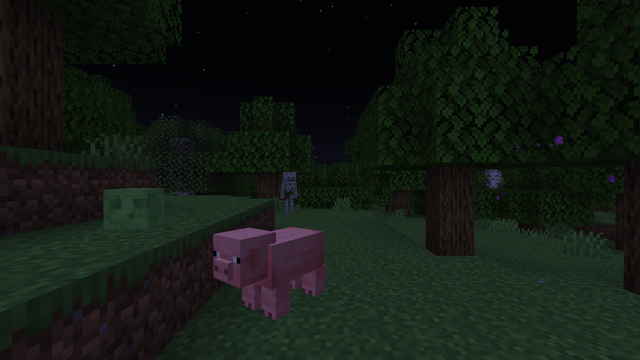cochons: (239, 226, 315, 315)
slimes: (101, 186, 166, 228)
squelettes: (282, 172, 295, 213)
